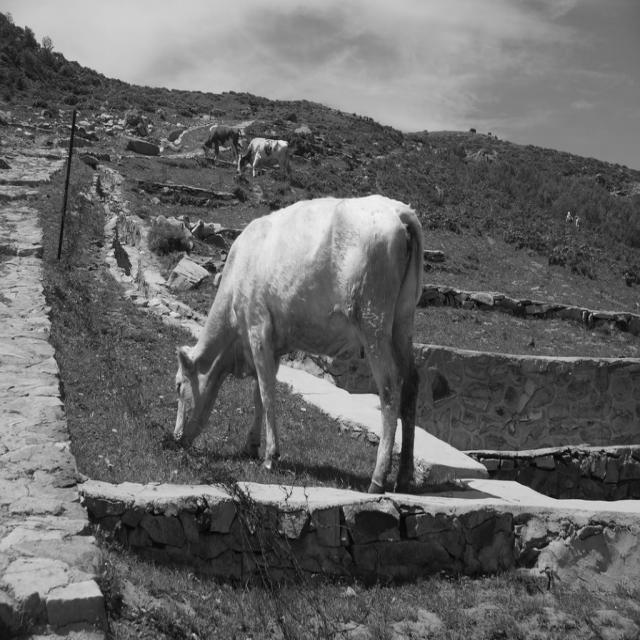cow: (174, 195, 422, 492)
